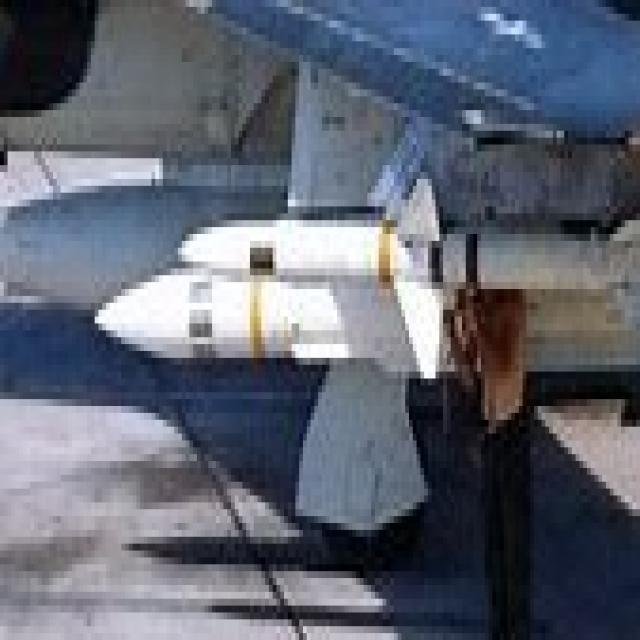missile: (101, 207, 640, 366)
